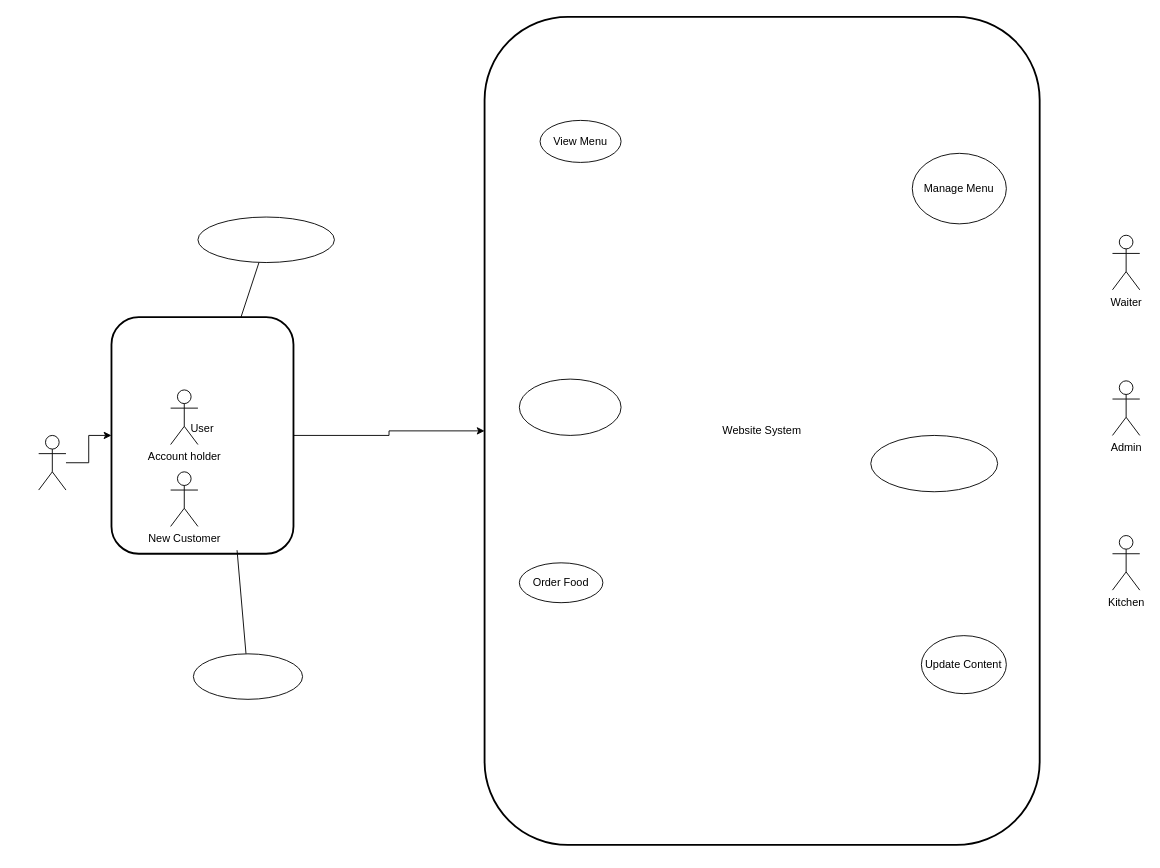
Some shapes in this 1160 by 868 pixel diagram are drawn without their labels. The shapes that lost their labels are listed below. From the top down, each one's centre as x and y in pixels, then its label:
At point 265,239: "View Contact Info".
At point 569,406: "Make Reservation".
At point 52,462: "Web Customer".
At point 934,463: "Manage Reservations".
At point 247,676: "View home page".
